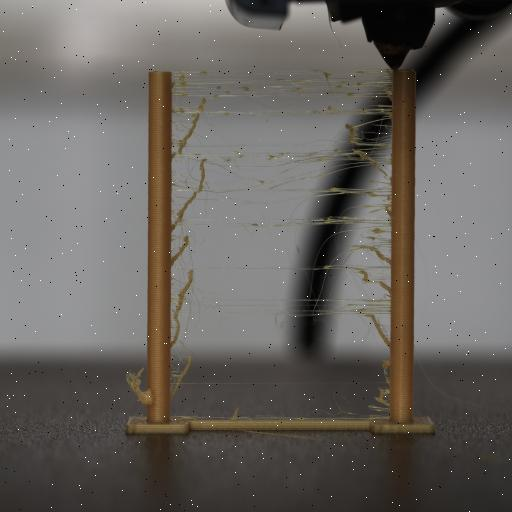stringing: (170, 65, 392, 321), (168, 348, 194, 410), (123, 366, 154, 414), (371, 355, 391, 420)
